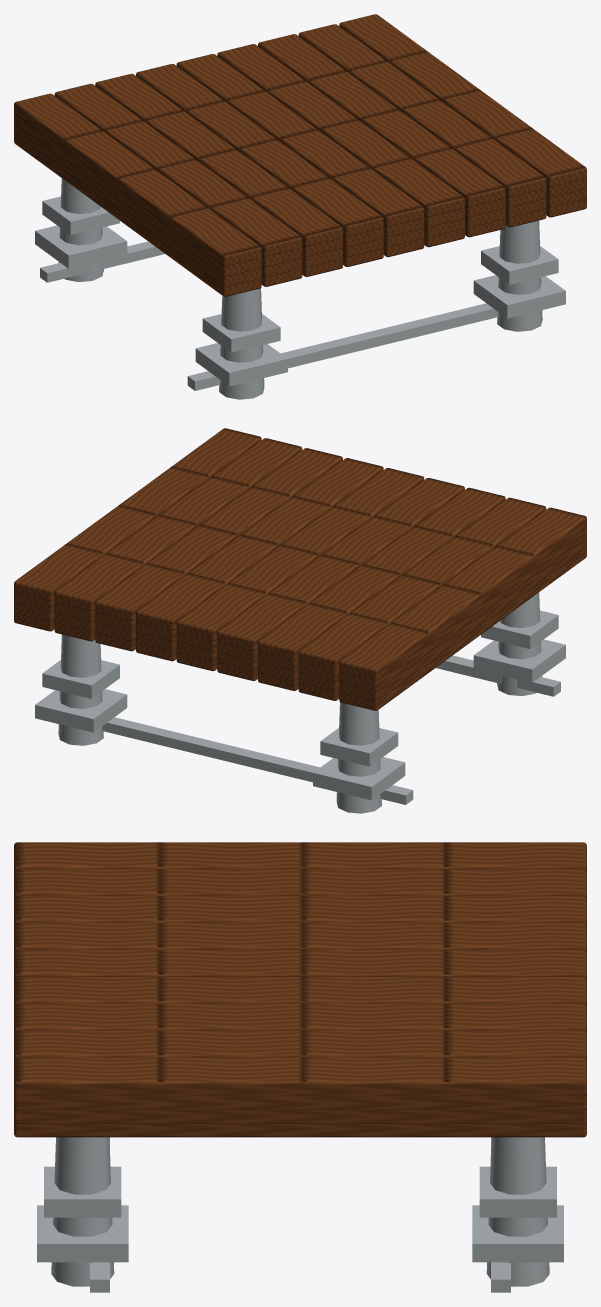
File: modular-survival-base-builder-screw-pile-foundation-re-6be52d57__24270.glb
3 views of the same model, one above another, from view 1: azimuth 30°, elevation 25°; view 2: azimuth 150°, elevation 25°; view 3: azimuth 270°, elevation 25° (orthographic). The views are drawn at different scales.
Parts seen in each view (by area): view 1: screw-pile-foundation-reinforced; view 2: screw-pile-foundation-reinforced; view 3: screw-pile-foundation-reinforced.
Boxes of the visible parts, box(x1,y1,x2,y2) form: screw-pile-foundation-reinforced: box(14, 14, 586, 399); screw-pile-foundation-reinforced: box(14, 428, 586, 813); screw-pile-foundation-reinforced: box(14, 842, 586, 1292).
Bounding box in the file's own units: 2 × 0.85 × 2.
2 materials, 1 textured.
